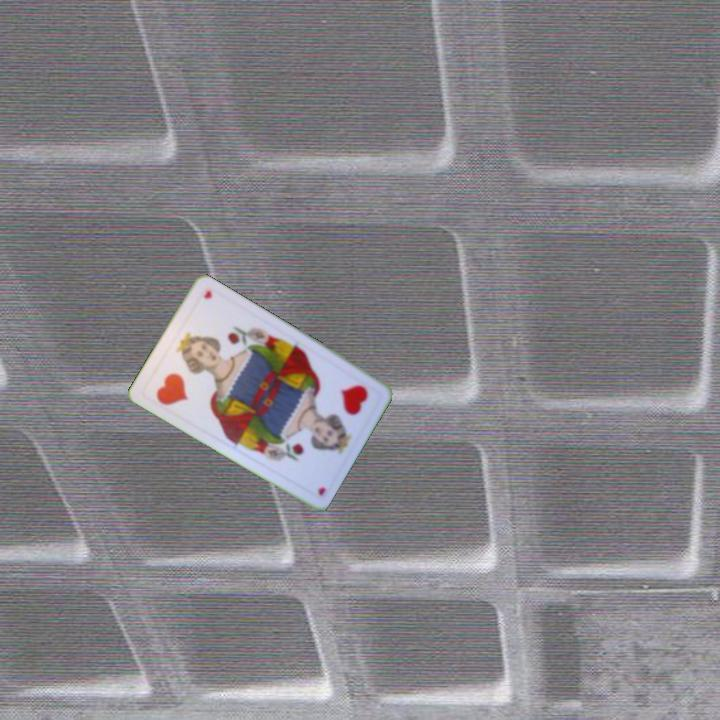h_q.png: (302, 362, 384, 448), (139, 337, 220, 422)
